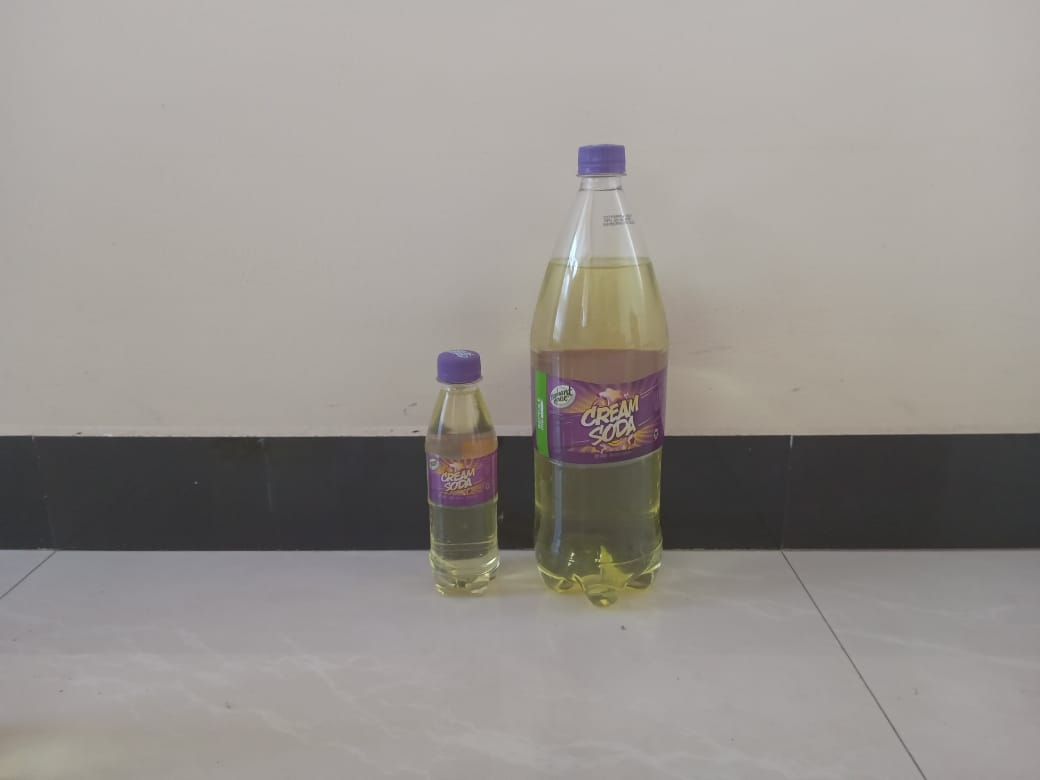L: (527, 142, 668, 609)
Xs: (420, 353, 497, 600)
